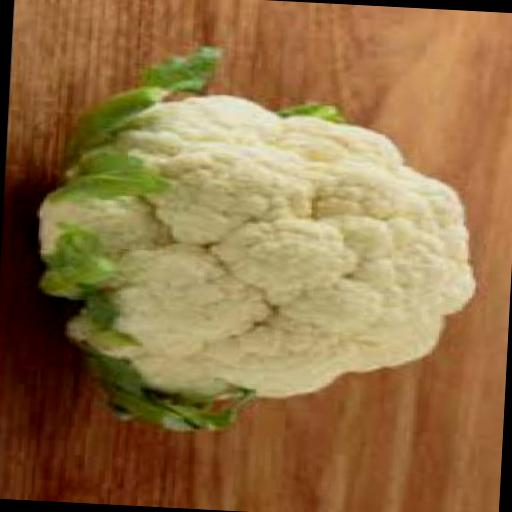biodegradable: (22, 40, 492, 445)
